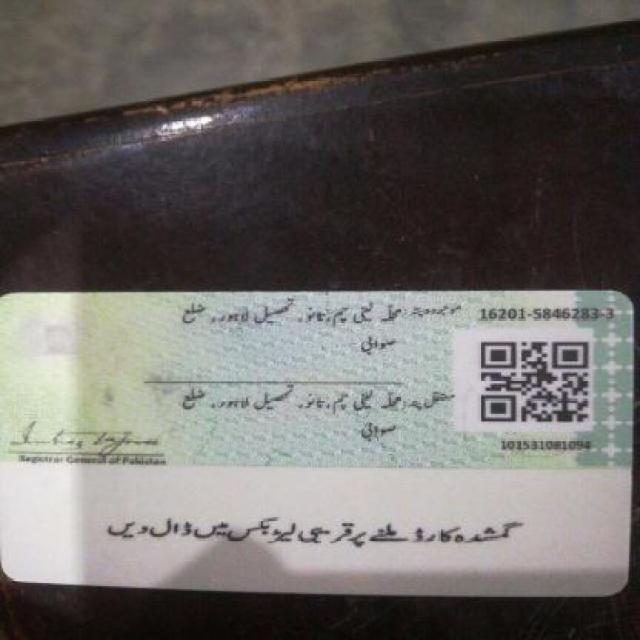Back: (1, 282, 638, 604)
